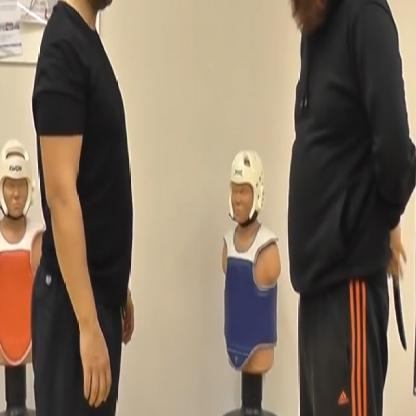knife: (390, 235, 410, 354)
